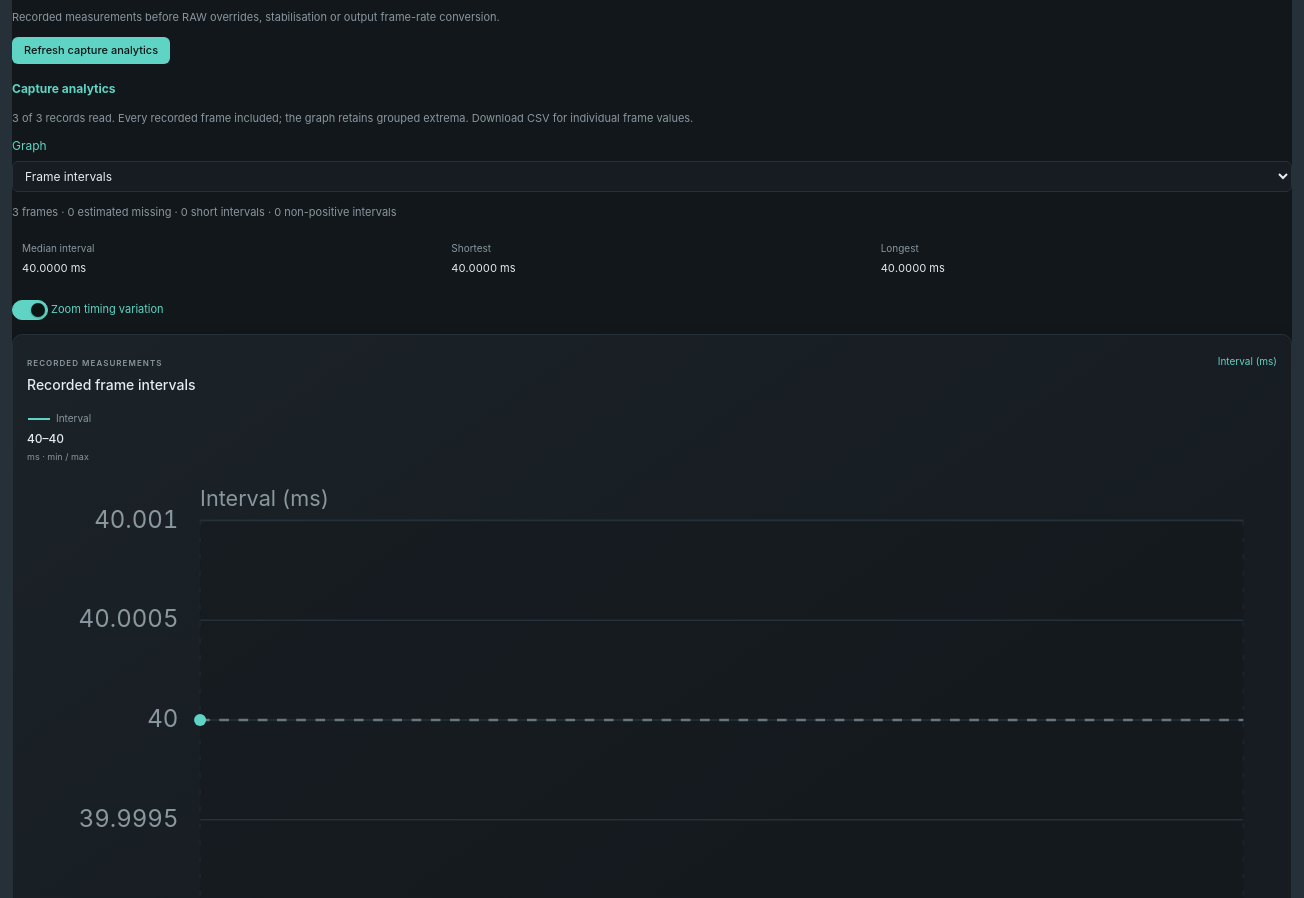
Test: switches Gyro and Acceleration without rereading the recording
Select "Acceleration" in the dropdown named "Analytics graph" at (652,176), box [12,161,1292,192]
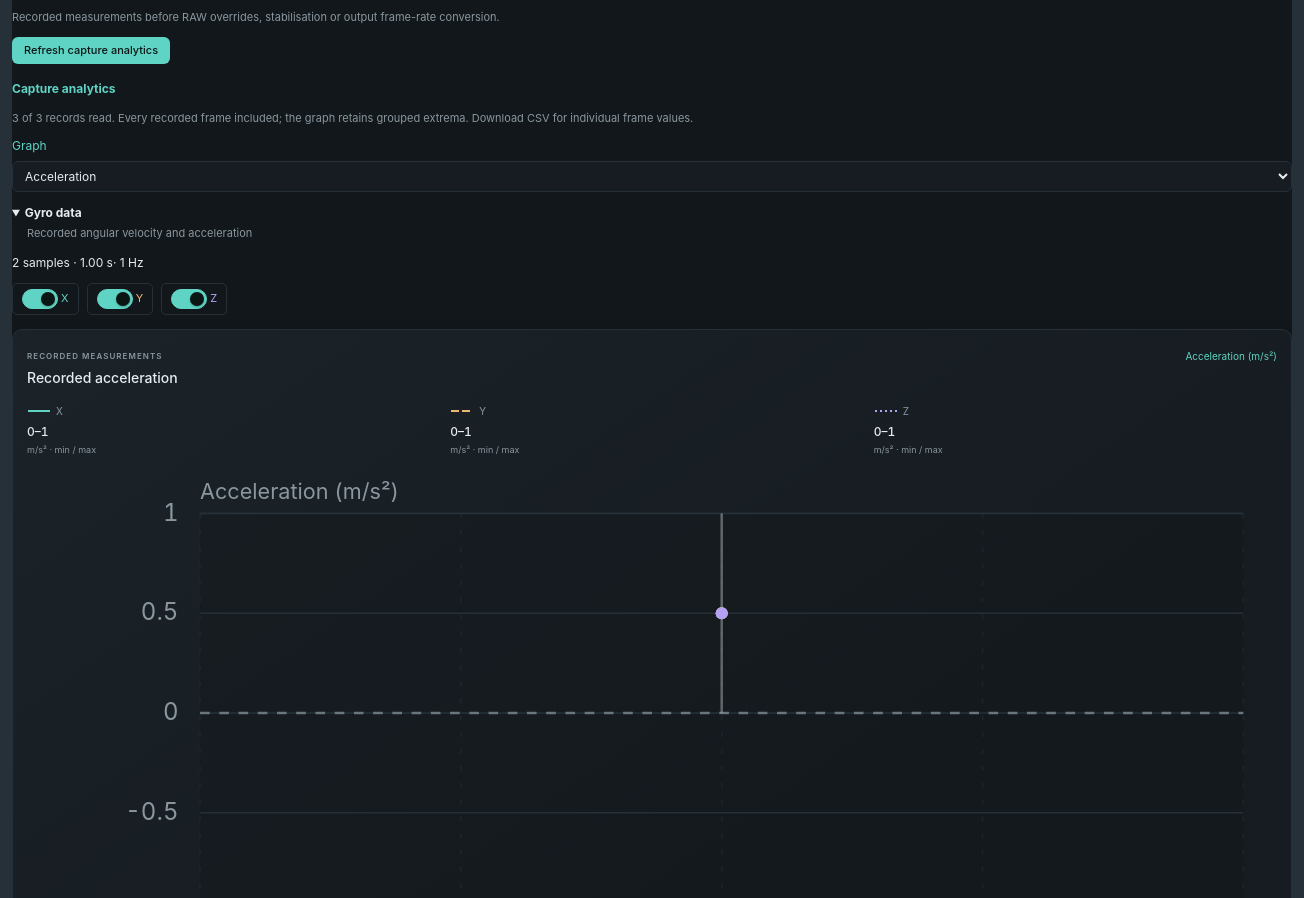
Select "Gyro" in the dropdown named "Analytics graph" at (652,176), box [12,161,1292,192]
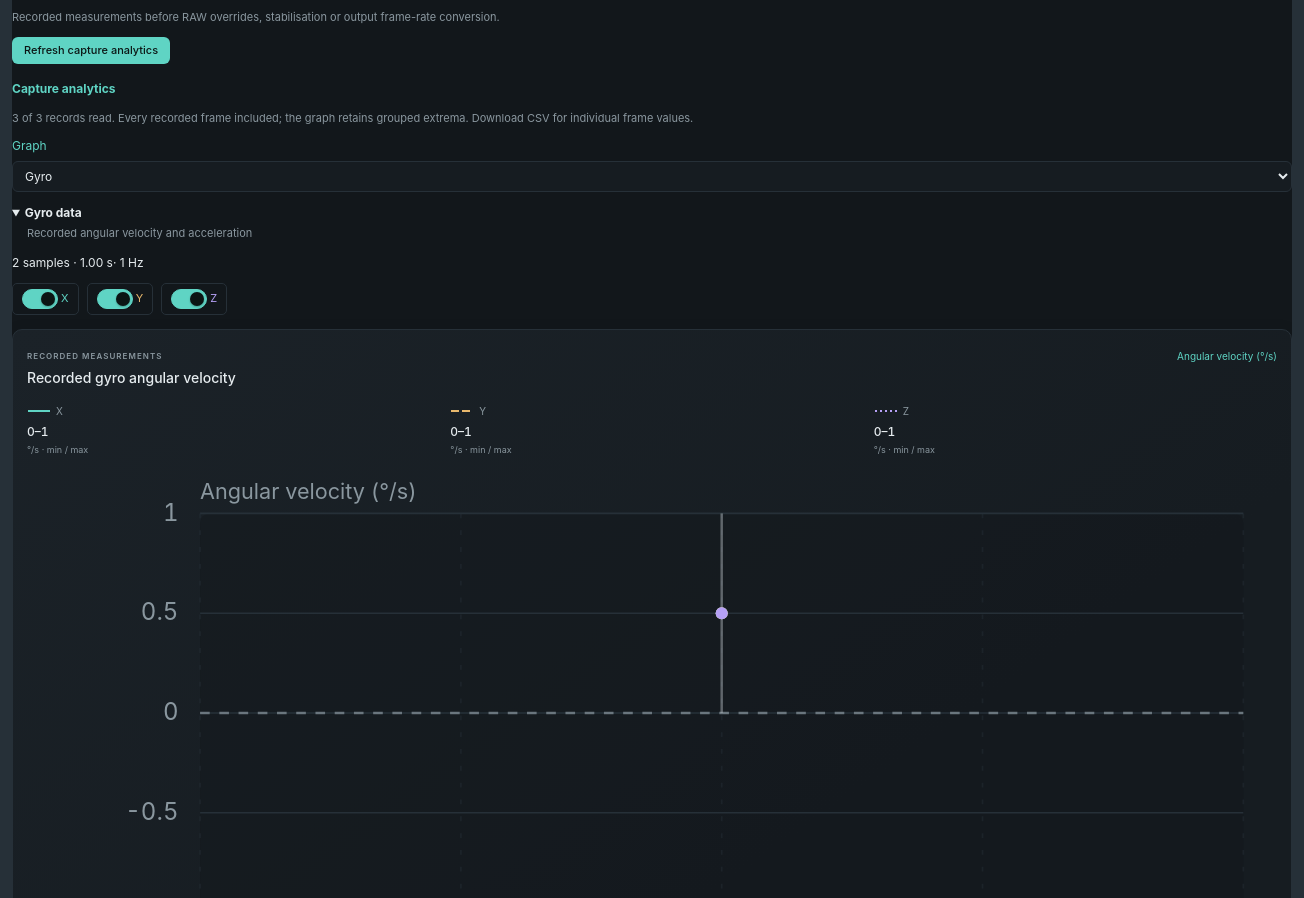
Select "Frame intervals" in the dropdown named "Analytics graph" at (652,176), box [12,161,1292,192]
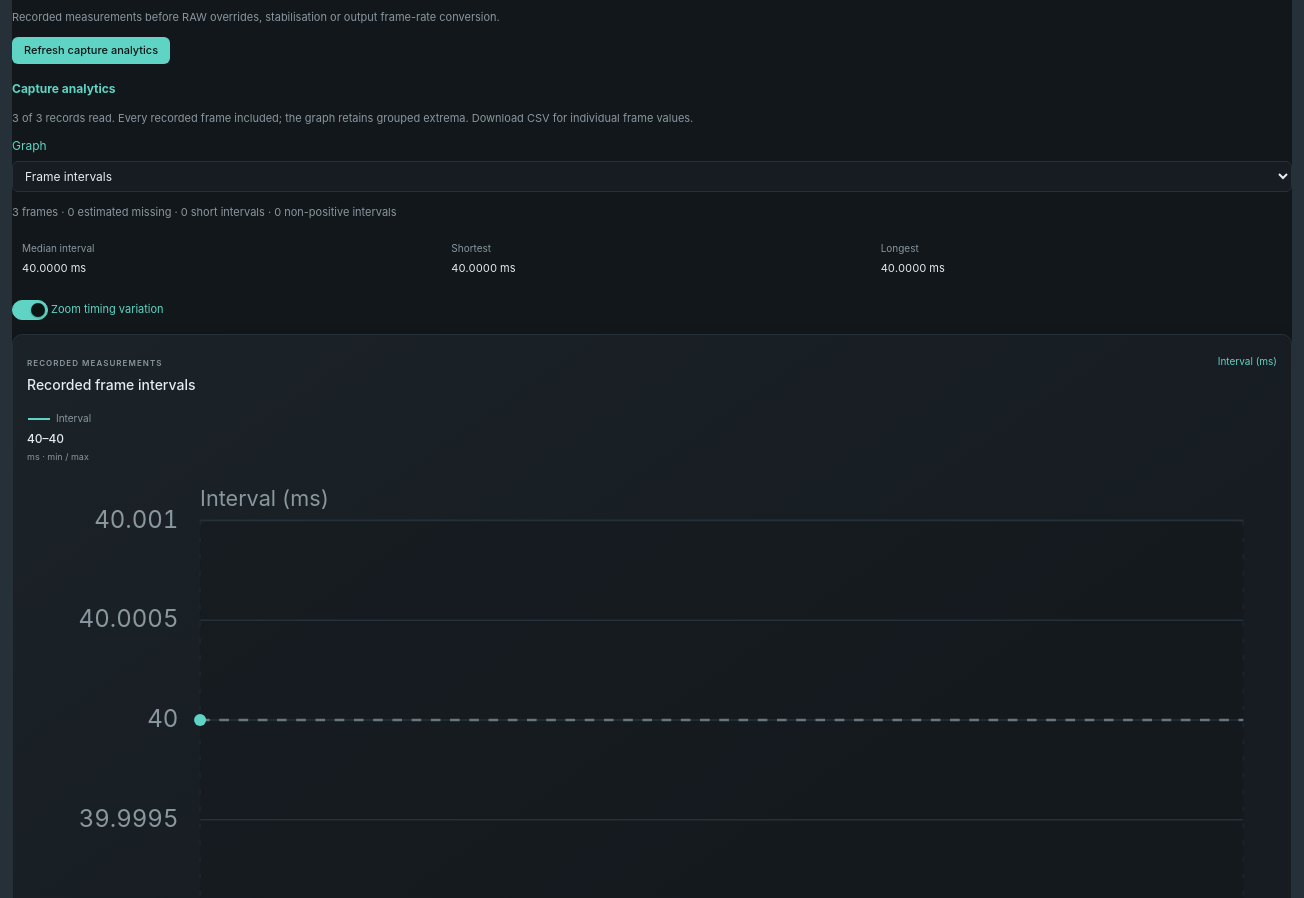
Select "Acceleration" in the dropdown named "Analytics graph" at (652,176), box [12,161,1292,192]
(page scrolled)
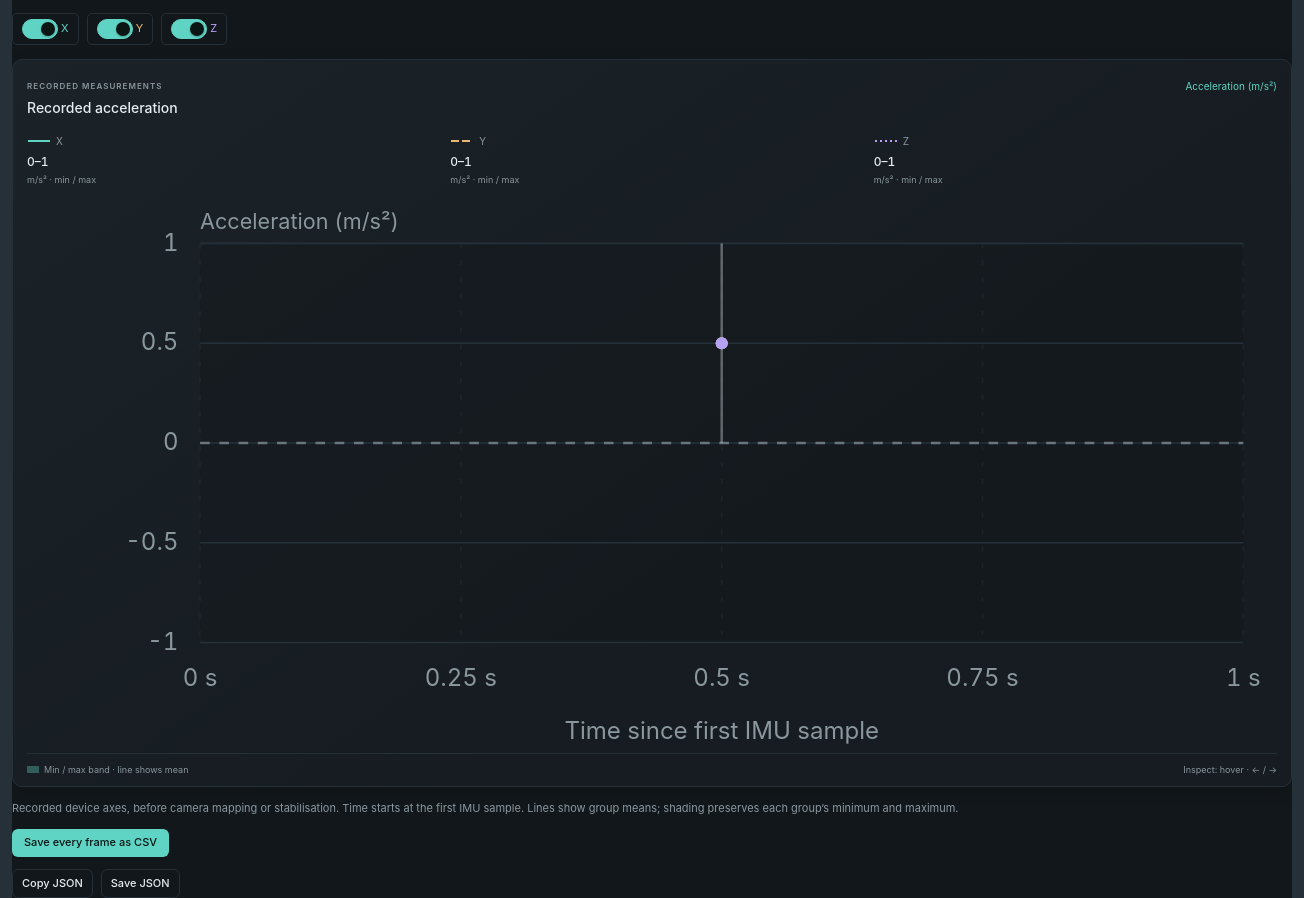
Expected: the picture named "Recorded acceleration" is shown, [27,204,1277,753]
